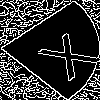X: (25, 24, 100, 81)
